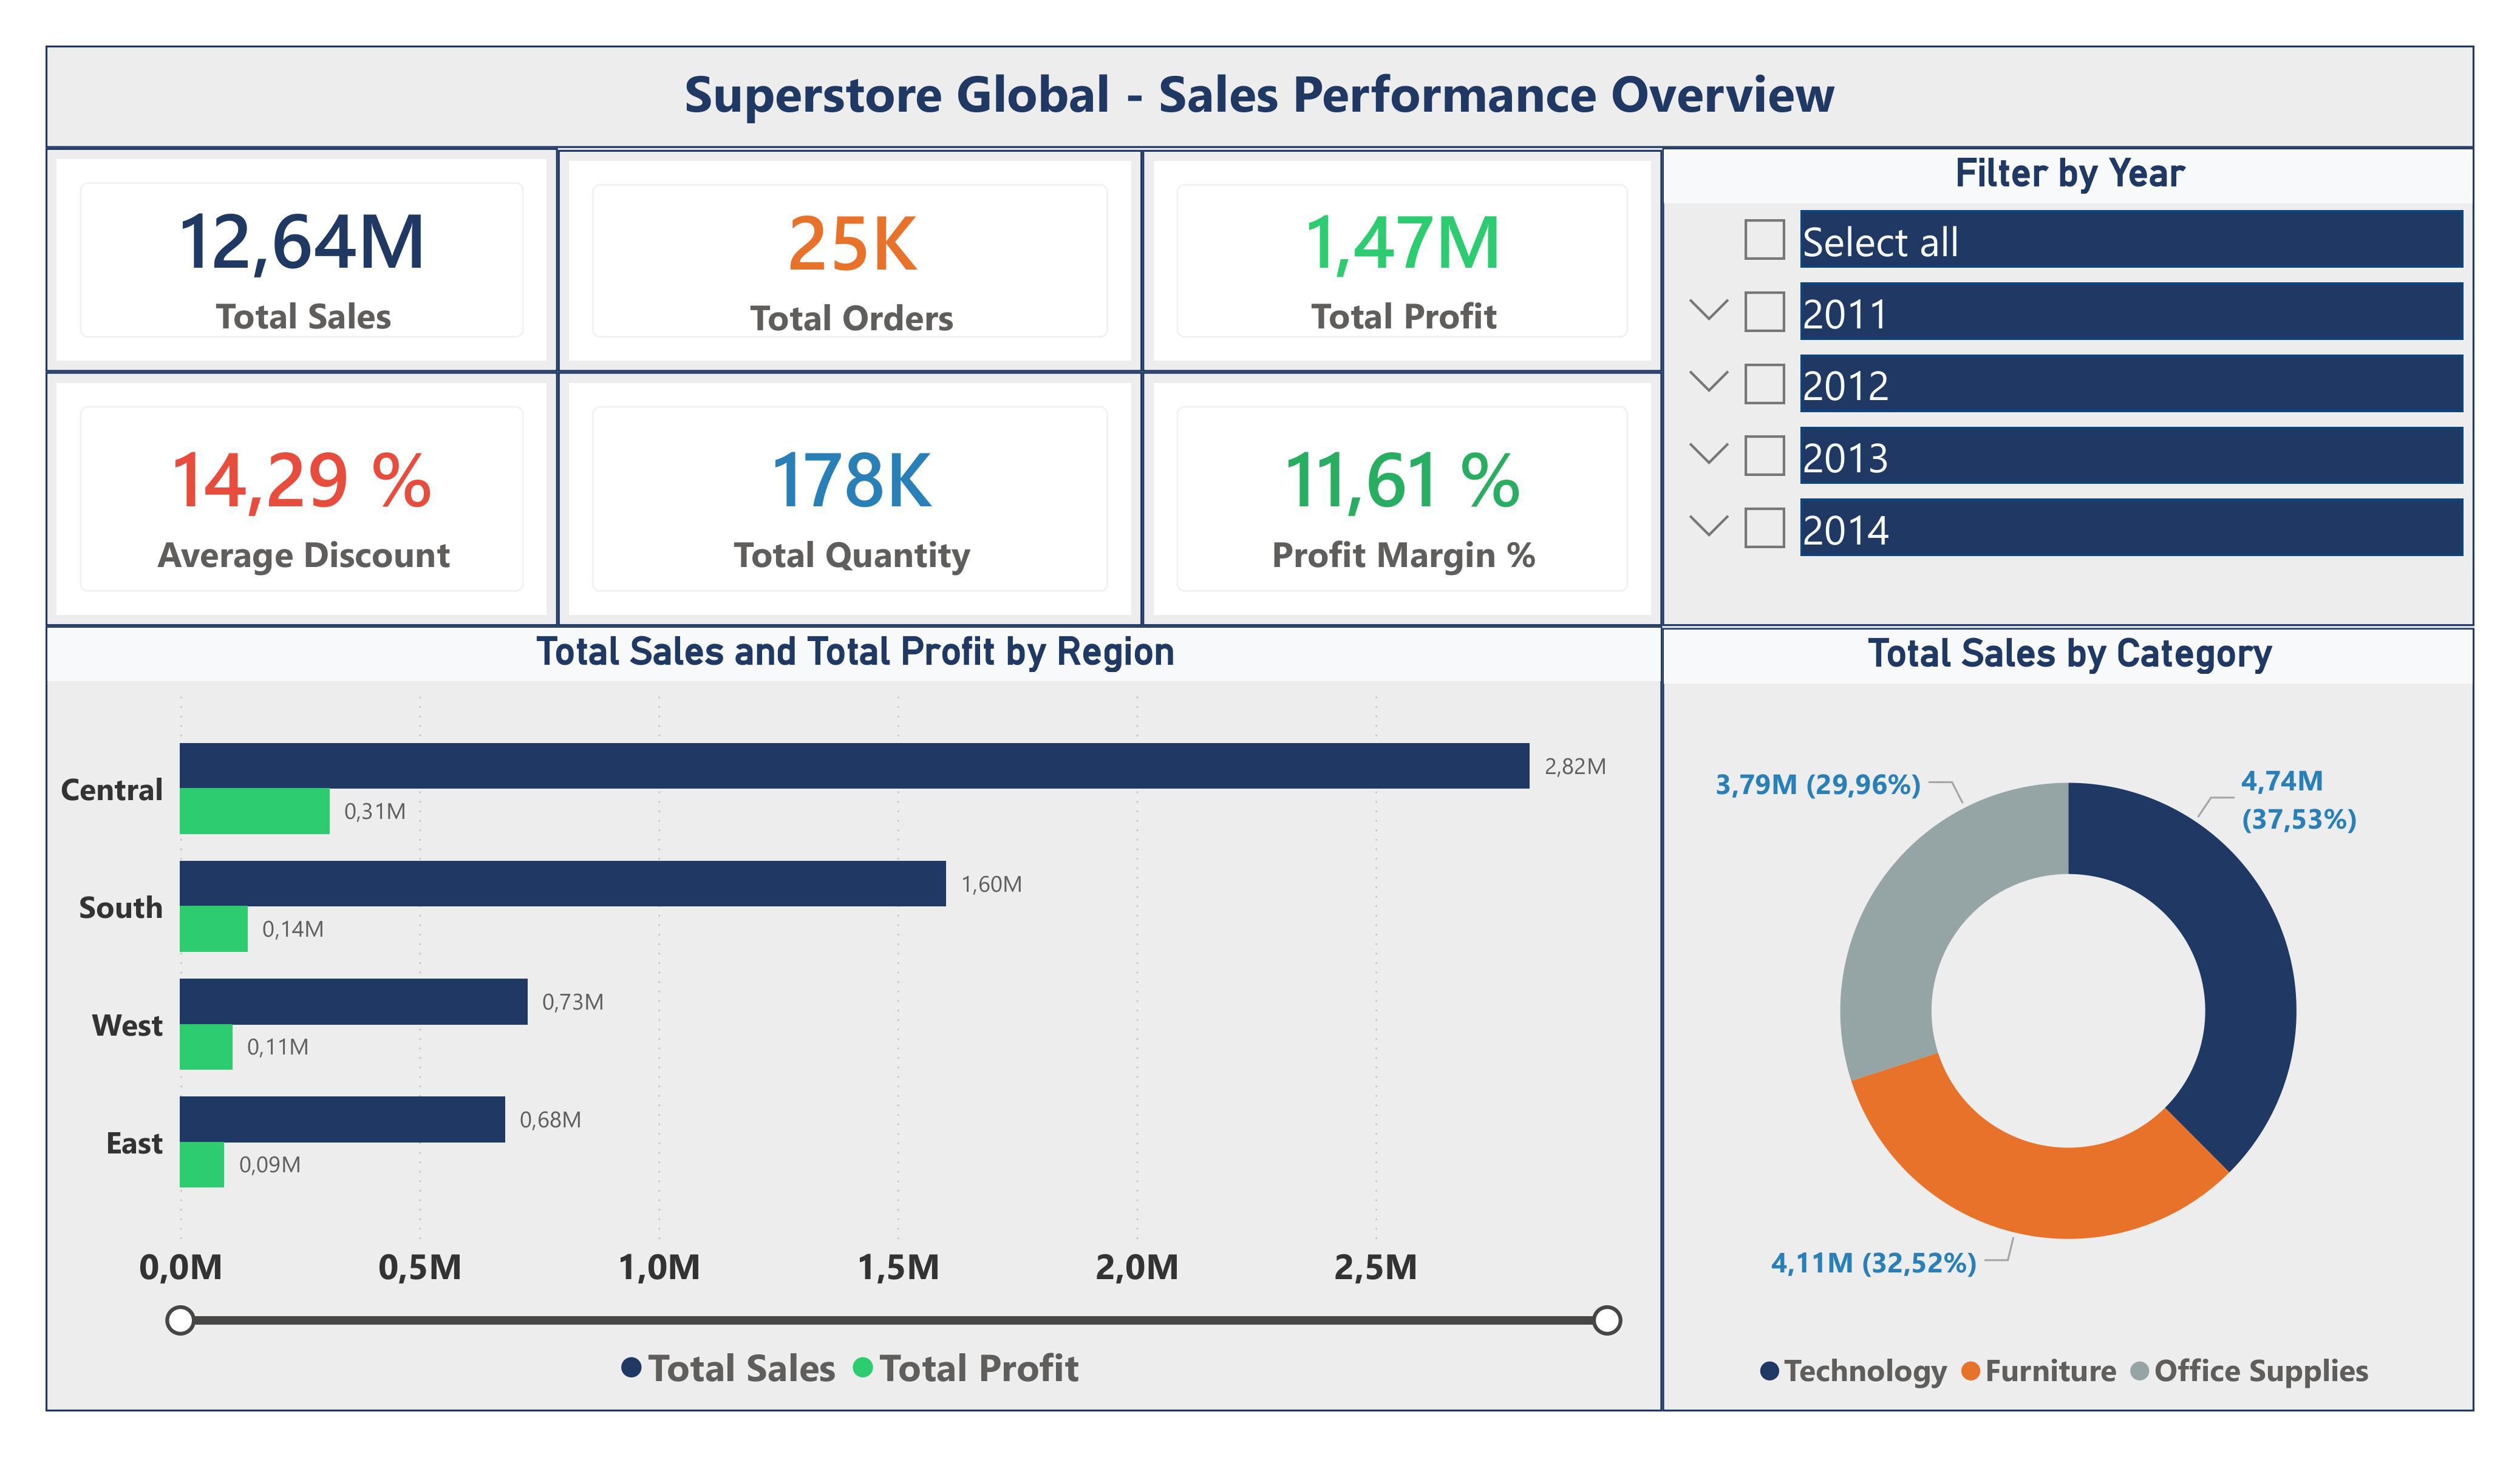

The dashboard page shown, as its layout file describes it:
{"tool":"powerbi","page":{"name":"Overview","canvas":[1280,720],"ordinal":0},"visuals":[{"type":"cardVisual","fields":{"Data":["Sheet1.Total Sales"]},"box":[0,54,270,118],"z":0},{"type":"cardVisual","fields":{"Data":["Sheet1.Total Profit"]},"box":[578.3,55,273.3,116.7],"z":1000},{"type":"cardVisual","fields":{"Data":["Sheet1.Profit Margin %"]},"box":[578.3,172,274,134.2],"z":2000},{"type":"cardVisual","fields":{"Data":["Sheet1.Total Orders"]},"box":[270.2,54.8,308,117.2],"z":3000},{"type":"cardVisual","fields":{"Data":["Sheet1.Total Quantity"]},"box":[270,172,308,134],"z":4000},{"type":"cardVisual","fields":{"Data":["Sheet1.Average Discount"]},"box":[0,172,270,134],"z":5000},{"type":"textbox","box":[0,0,1280,54],"z":6000},{"type":"clusteredBarChart","fields":{"Y":["Sheet1.Total Sales","Sheet1.Total Profit"],"Category":["Sheet1.Region"]},"box":[0,306,852,414],"z":7000},{"type":"donutChart","fields":{"Category":["Sheet1.Category"],"Y":["Sheet1.Total Sales"]},"box":[851.7,306.7,428.3,413.3],"z":8000},{"type":"slicer","title":"Filter by Year","fields":{"Values":["Sheet1.Order Date.Variation.Date Hierarchy.Year","Sheet1.Order Date.Variation.Date Hierarchy.Quarter","Sheet1.Order Date.Variation.Date Hierarchy.Month","Sheet1.Order Date.Variation.Date Hierarchy.Day"]},"box":[852,54,428,252],"z":9000}]}

Visuals, with their boxes on the page's 1280x720 design canvas (x1, y1, x2, y2). These are canvas units, not pixel positions in the 2520x1457 screenshot, which may show the page scaled, cropped or inside an application window:
cardVisual - Sheet1.Total Sales: detection(0, 54, 270, 172)
cardVisual - Sheet1.Total Profit: detection(578, 55, 852, 172)
cardVisual - Sheet1.Profit Margin %: detection(578, 172, 852, 306)
cardVisual - Sheet1.Total Orders: detection(270, 55, 578, 172)
cardVisual - Sheet1.Total Quantity: detection(270, 172, 578, 306)
cardVisual - Sheet1.Average Discount: detection(0, 172, 270, 306)
textbox: detection(0, 0, 1280, 54)
clusteredBarChart - Sheet1.Total Sales x Sheet1.Total Profit: detection(0, 306, 852, 720)
donutChart - Sheet1.Category x Sheet1.Total Sales: detection(852, 307, 1280, 720)
"Filter by Year" slicer: detection(852, 54, 1280, 306)
